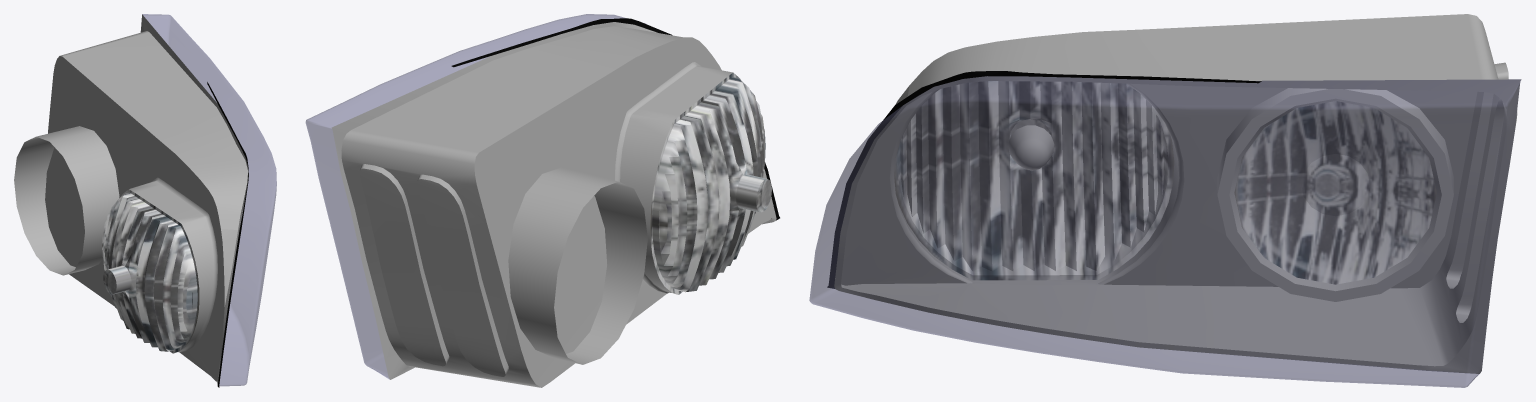
3 views of the same model, side by side, from view 1: azimuth 30°, elevation 25°; view 2: azimuth 150°, elevation 25°; view 3: azimuth 270°, elevation 25° (orthographic). The views are drawn at different scales.
Visible parts, largest first — view 1: P222_15_061B_R_1_N_P222_15_061B_R, P222_15_061B_R_P222_15_061B_R_3_N, P222_15_061B_R_P222_15_061B_R_4_DTaSI, P222_15_061B_R_P222_15_061B_R_2_D; view 2: P222_15_061B_R_1_N_P222_15_061B_R, P222_15_061B_R_P222_15_061B_R_3_N, P222_15_061B_R_P222_15_061B_R_4_DTaSI, P222_15_061B_R_P222_15_061B_R_2_D; view 3: P222_15_061B_R_P222_15_061B_R_4_DTaSI, P222_15_061B_R_1_N_P222_15_061B_R, P222_15_061B_R_P222_15_061B_R_3_N, P222_15_061B_R_P222_15_061B_R_2_D.
Part boxes in pixels (x1=…): P222_15_061B_R_1_N_P222_15_061B_R: x1=14, y1=14, x2=248, y2=384; P222_15_061B_R_P222_15_061B_R_3_N: x1=102, y1=189, x2=199, y2=353; P222_15_061B_R_P222_15_061B_R_4_DTaSI: x1=142, y1=14, x2=276, y2=386; P222_15_061B_R_P222_15_061B_R_2_D: x1=207, y1=82, x2=248, y2=387; P222_15_061B_R_1_N_P222_15_061B_R: x1=331, y1=22, x2=776, y2=387; P222_15_061B_R_P222_15_061B_R_3_N: x1=650, y1=72, x2=771, y2=294; P222_15_061B_R_P222_15_061B_R_4_DTaSI: x1=305, y1=14, x2=645, y2=379; P222_15_061B_R_P222_15_061B_R_2_D: x1=451, y1=18, x2=779, y2=220; P222_15_061B_R_P222_15_061B_R_4_DTaSI: x1=809, y1=76, x2=1520, y2=387; P222_15_061B_R_1_N_P222_15_061B_R: x1=834, y1=14, x2=1521, y2=373; P222_15_061B_R_P222_15_061B_R_3_N: x1=894, y1=81, x2=1436, y2=284; P222_15_061B_R_P222_15_061B_R_2_D: x1=827, y1=71, x2=1261, y2=288.
Bounding box in the file's own units: 22.51 × 20.27 × 40.76.
